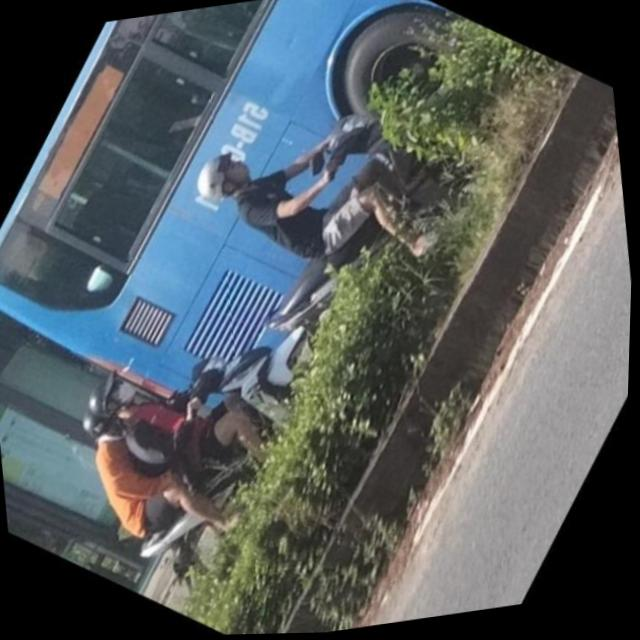WITH_HELMET: (186, 137, 256, 210), (73, 356, 138, 425)
